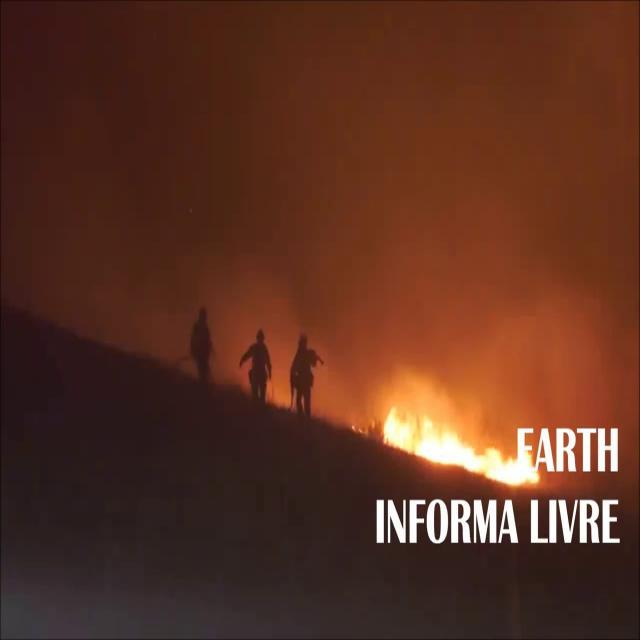Fire: (386, 398, 538, 487)
